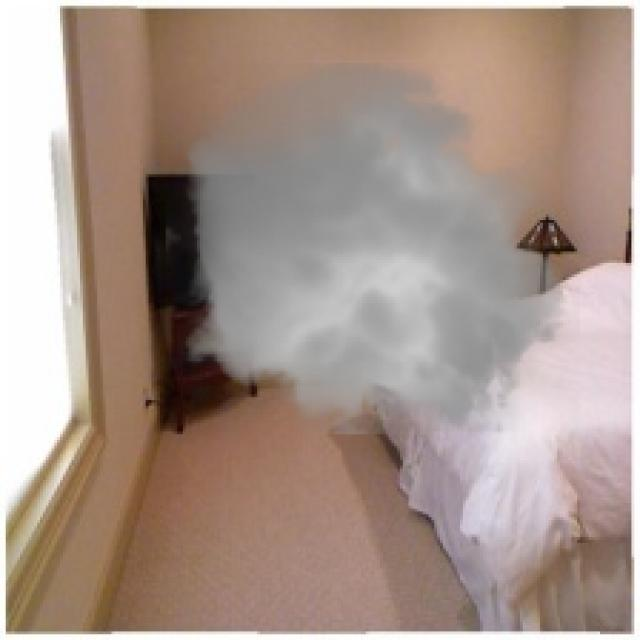smoke: (166, 49, 580, 452)
